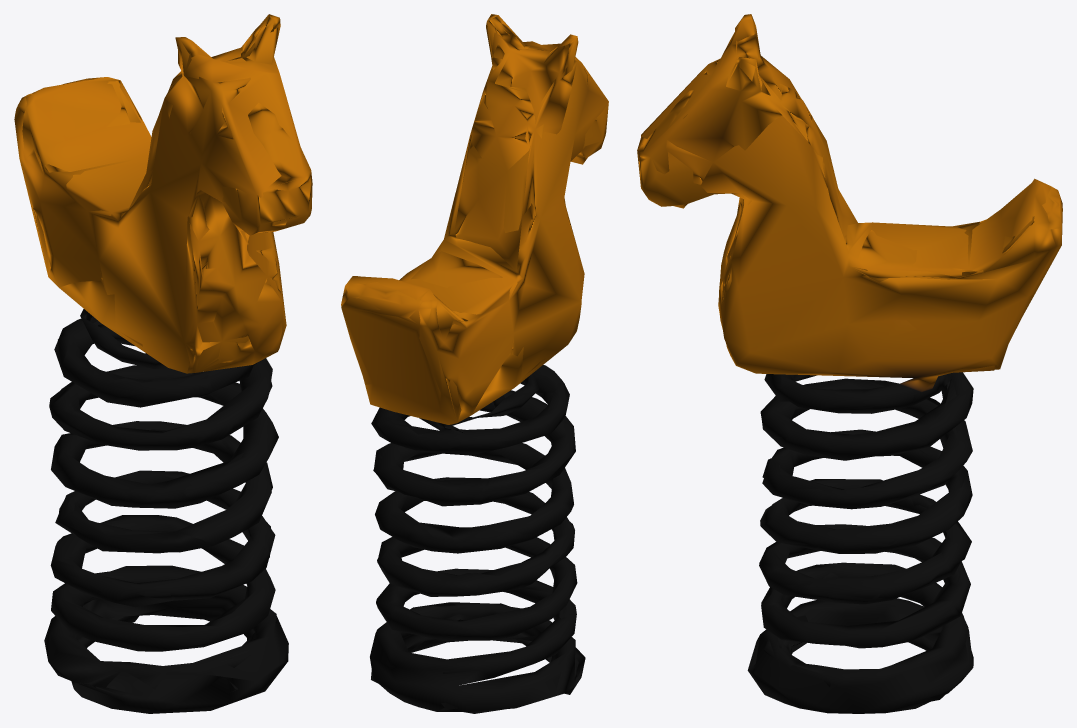
File: gen3d-spring-rider-lod0.glb
The picture shows the model from 3 angles, left to right: view 1: azimuth 30°, elevation 25°; view 2: azimuth 150°, elevation 25°; view 3: azimuth 270°, elevation 25°; orthographic projection. The views are drawn at different scales.
Parts seen in each view (by area): view 1: part_0; view 2: part_0; view 3: part_0.
Part boxes in pixels (x1,y1,x2,y2): part_0: [14, 14, 312, 713]; part_0: [341, 14, 608, 713]; part_0: [637, 14, 1062, 713].
Bounding box in the file's own units: 0.32 × 0.9945 × 0.6001.
